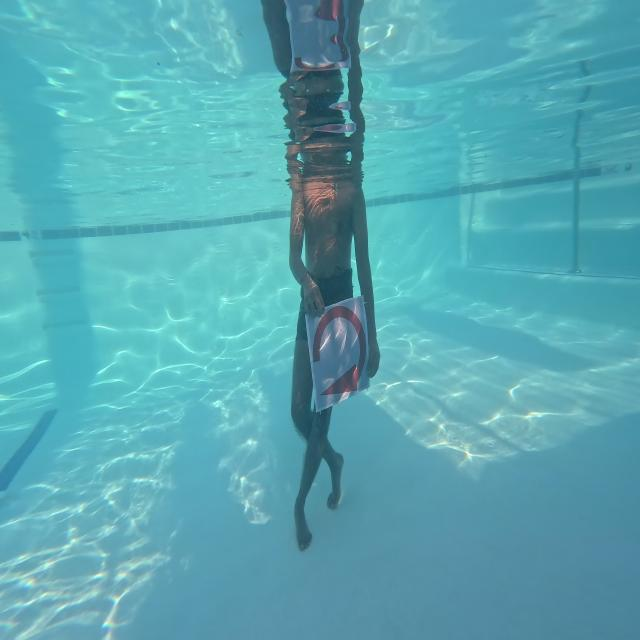red_side: (304, 310, 372, 408)
